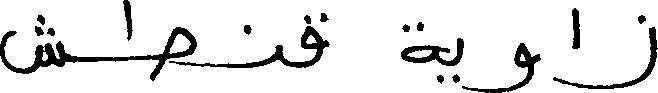X: (580, 10, 657, 92), (0, 10, 62, 78), (464, 38, 530, 92), (403, 17, 435, 67), (162, 22, 194, 71), (302, 10, 320, 72), (574, 3, 578, 92), (458, 33, 462, 92), (276, 40, 281, 66)
